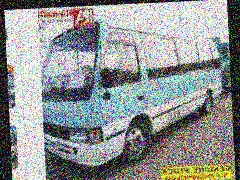bus: (38, 16, 226, 170)
